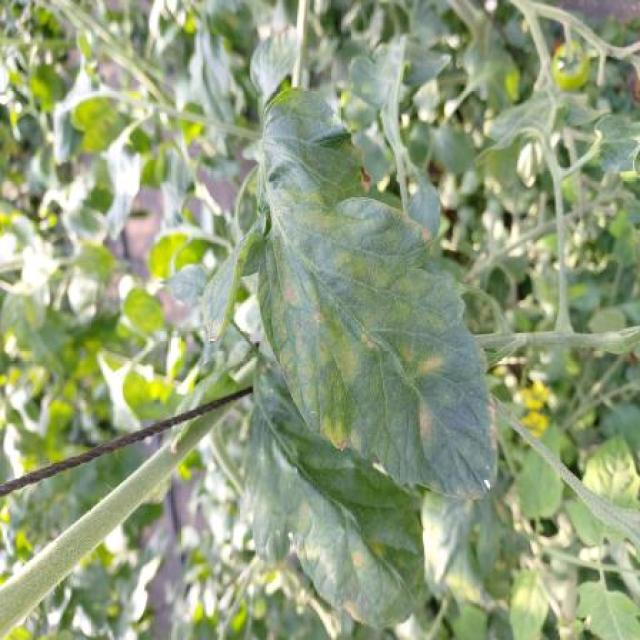Leaf Mold: (261, 86, 499, 503), (246, 339, 425, 631)
